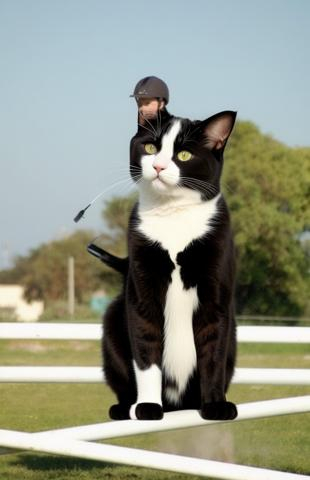cat: (100, 111, 237, 419)
person: (85, 74, 240, 262)
person/foot: (204, 238, 234, 253), (88, 245, 112, 255)
person/hand: (155, 146, 174, 161)
person/head: (129, 76, 170, 122)
